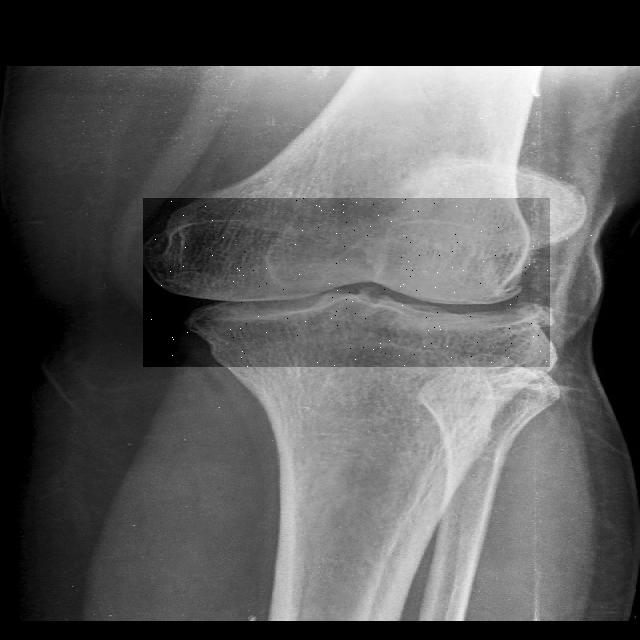osteo: (144, 198, 552, 367)
